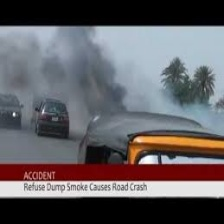smoke: (11, 34, 135, 108)
